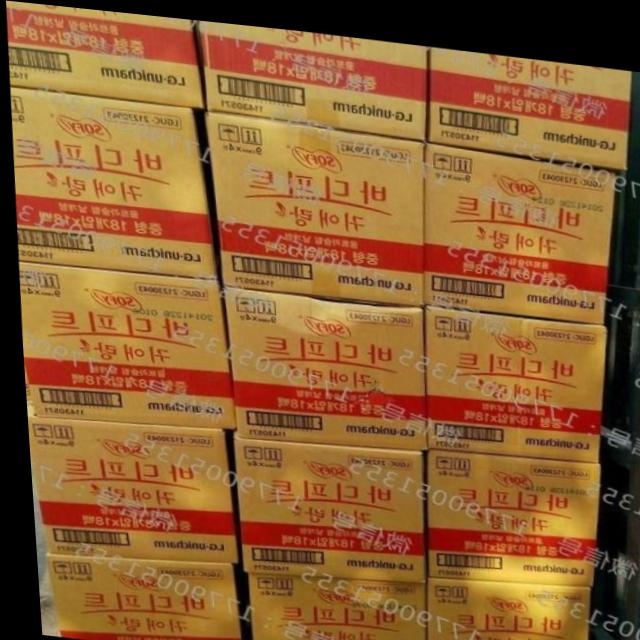box: (205, 108, 427, 299), (10, 86, 213, 274), (16, 261, 234, 422), (419, 134, 612, 310), (217, 280, 421, 441), (22, 415, 225, 558), (419, 297, 605, 451), (227, 428, 421, 572), (193, 16, 431, 129), (425, 38, 632, 153), (417, 439, 592, 574), (7, 1, 202, 103), (36, 553, 237, 640), (236, 568, 419, 640), (417, 567, 585, 640)
